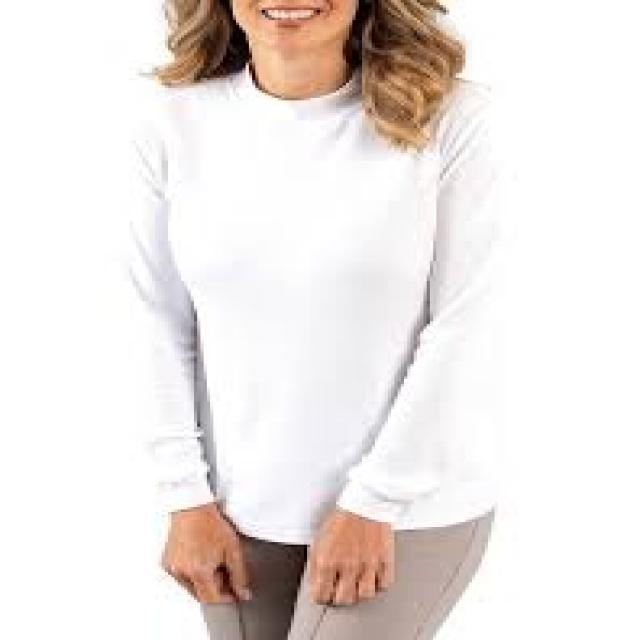plain: (100, 74, 500, 534)
